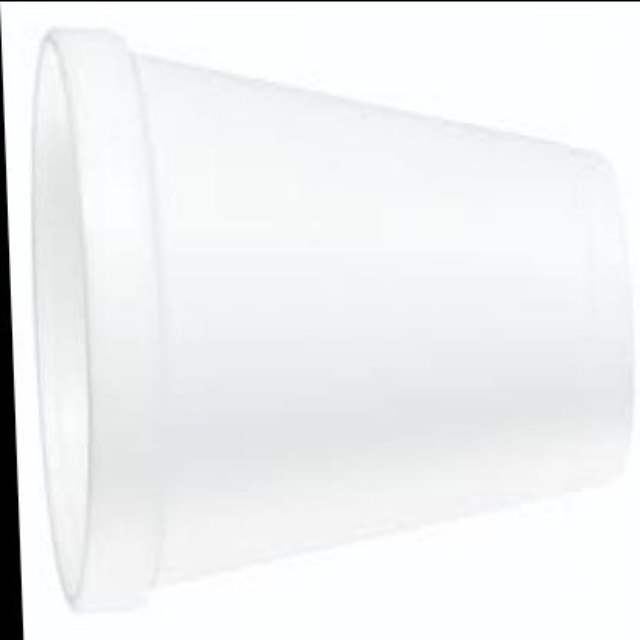trash: (32, 31, 631, 605)
